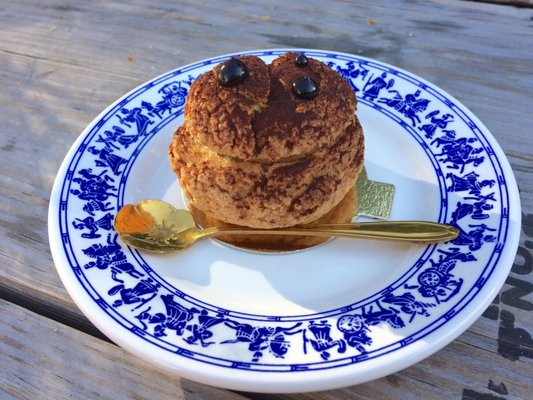salad: (114, 198, 499, 255), (117, 208, 457, 252), (114, 199, 356, 255)
